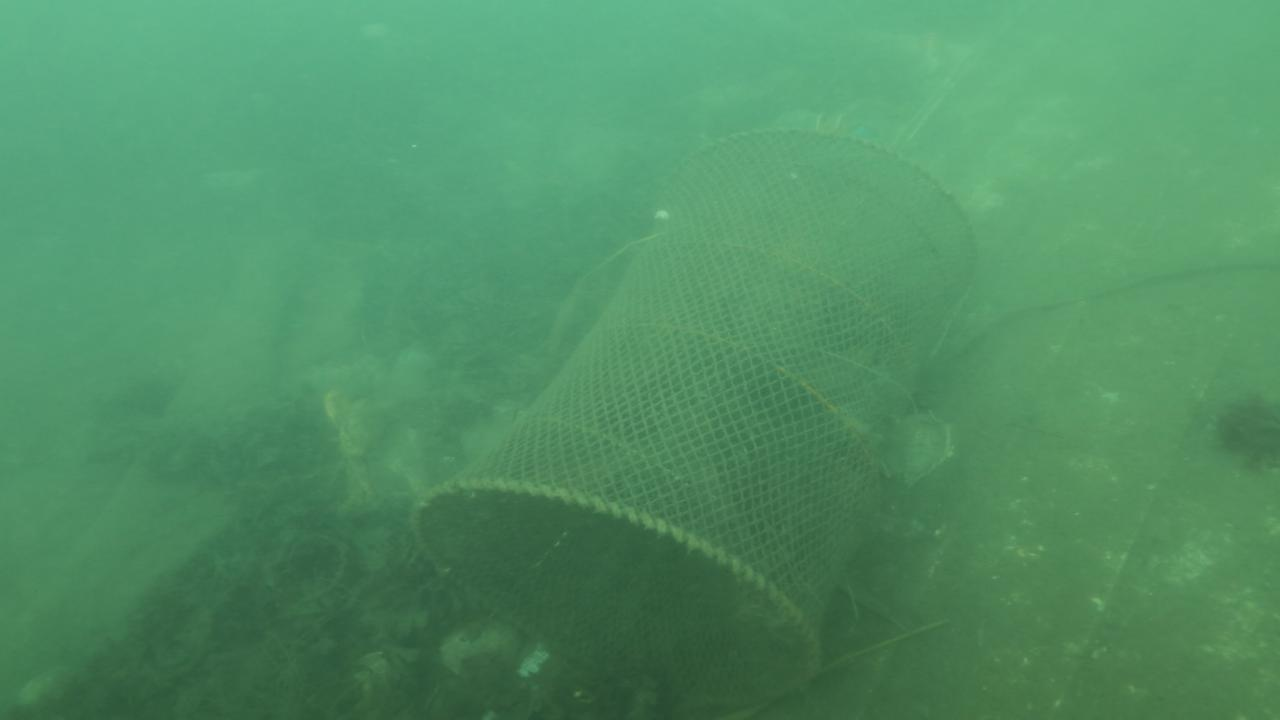spring fish trap: (409, 123, 981, 707)
